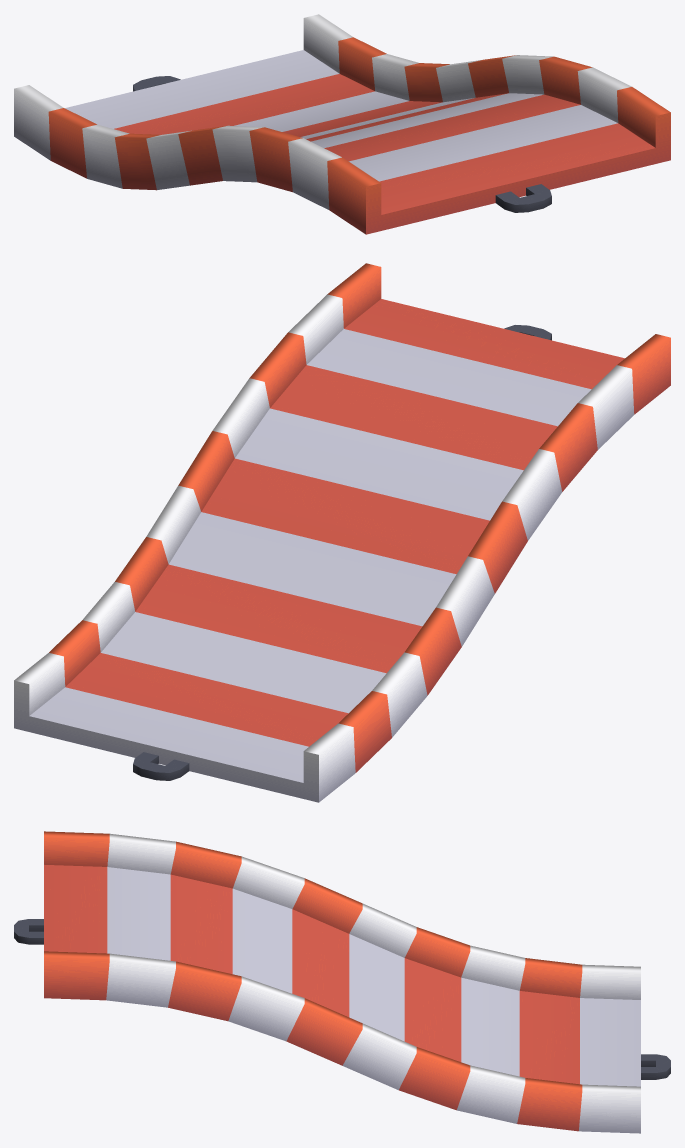
File: track-striped-wide-straight-hill-complete.glb
3 renders of one model, top to bottom at view 1: azimuth 30°, elevation 25°; view 2: azimuth 150°, elevation 25°; view 3: azimuth 270°, elevation 25°, orthographic. The views are drawn at different scales.
Visible parts, largest first — view 1: track-striped-wide-straight-hill-complete; view 2: track-striped-wide-straight-hill-complete; view 3: track-striped-wide-straight-hill-complete.
Boxes of the visible parts, x1=… form: track-striped-wide-straight-hill-complete: x1=14, y1=14, x2=670, y2=234; track-striped-wide-straight-hill-complete: x1=14, y1=263, x2=670, y2=802; track-striped-wide-straight-hill-complete: x1=14, y1=831, x2=670, y2=1133.
Bounding box in the file's own units: 6 × 3.9 × 13.2.
Materials: 1 (1 with a texture image).
